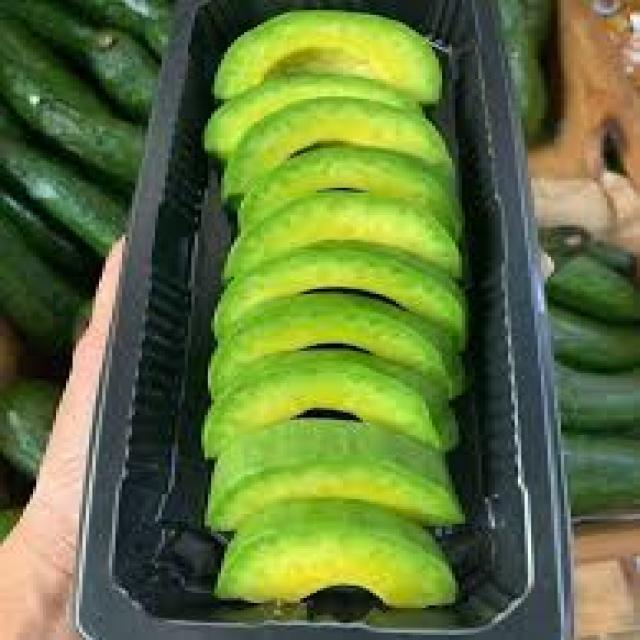Bo: (182, 357, 472, 514), (198, 250, 474, 384), (216, 144, 485, 269), (186, 503, 463, 607), (209, 422, 470, 530), (202, 80, 460, 177), (200, 12, 450, 101)
